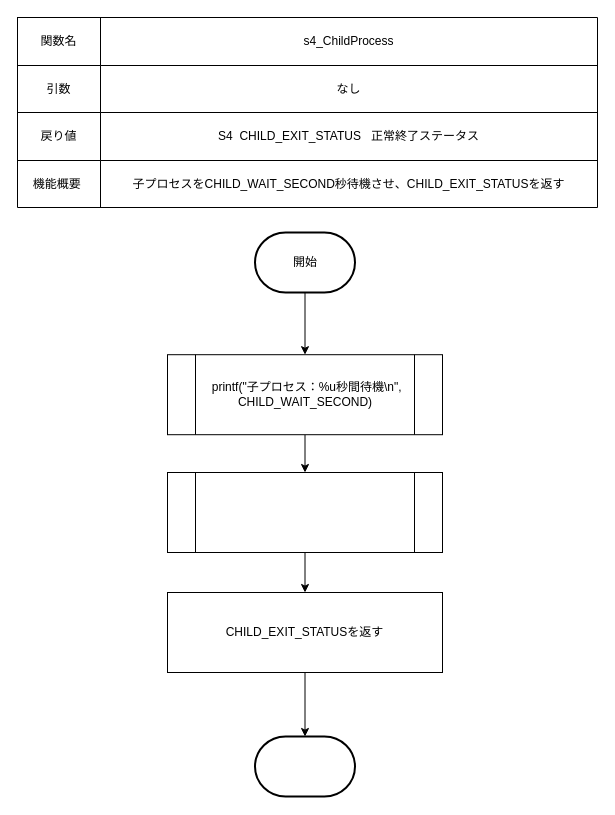
The diagram is 615 pixels wide and 815 high, and some of its shapes have lost their labels. The shapes that lost their labels are listed below. From the top down, each one's centre as x and y in pixels, then its label:
the point at 304,512: sleep(CHILD_WAIT_SECOND)
the point at 305,766: 終了
